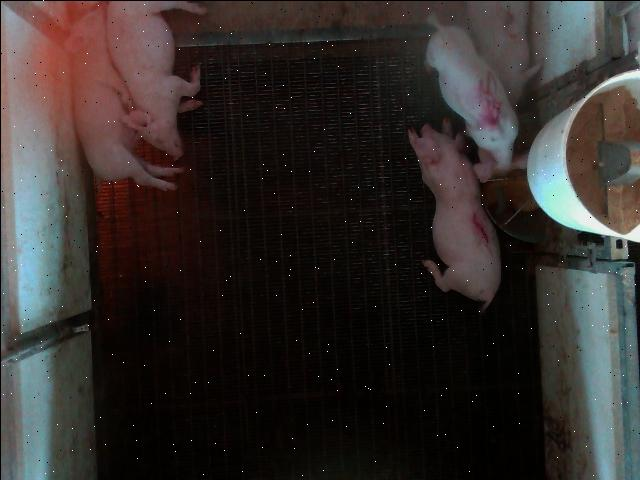pig-1: (408, 118, 500, 312)
pig-3: (466, 2, 540, 106)
pig-5: (425, 16, 526, 181)
